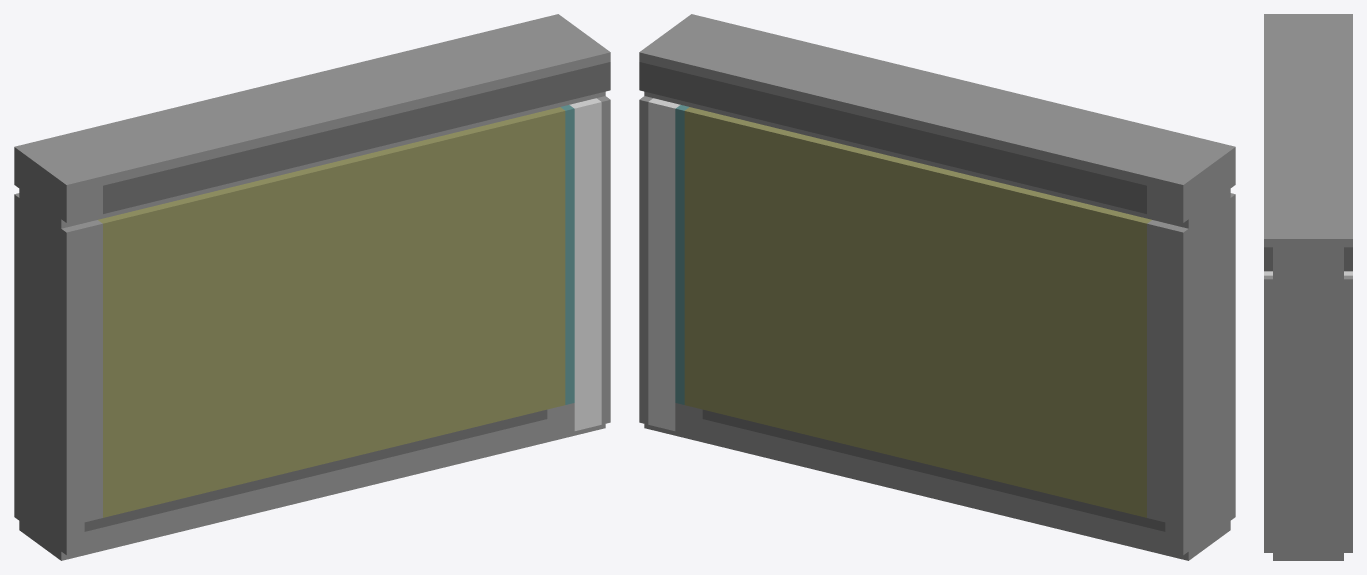
File: Conference Room Wall 7.obj
3 renders of one model, left to right at view 1: azimuth 30°, elevation 25°; view 2: azimuth 150°, elevation 25°; view 3: azimuth 270°, elevation 25°, orthographic. The views are drawn at different scales.
Bounding box in the file's own units: 60 × 40 × 10.
1 material, 1 textured.
